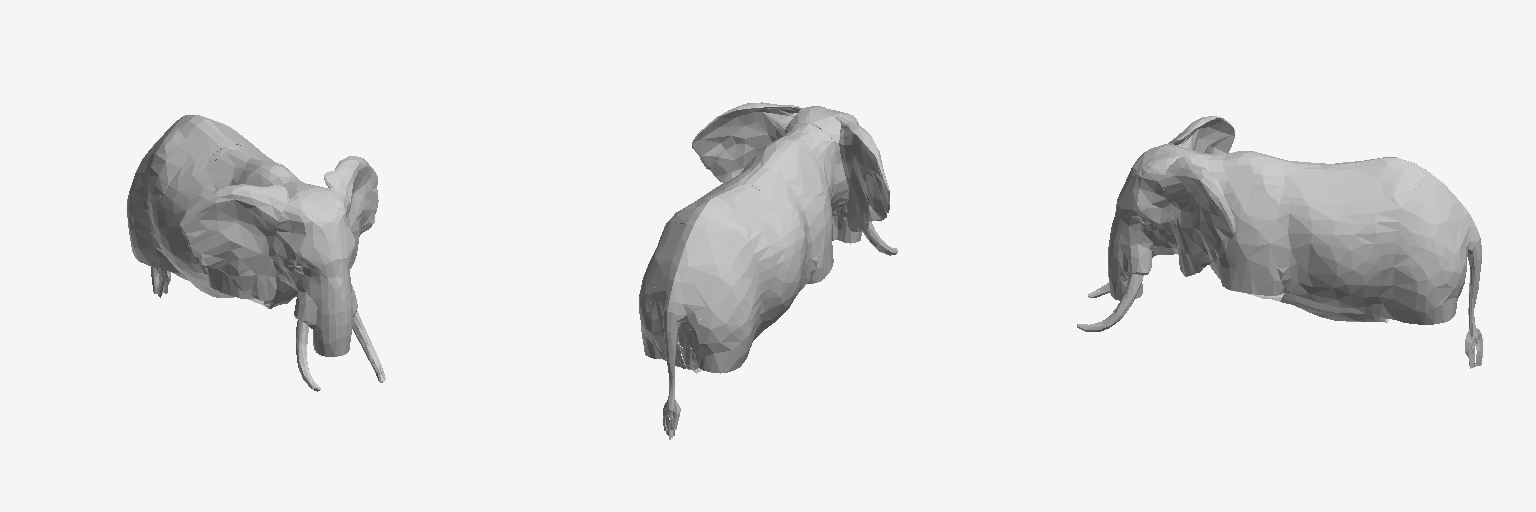
Rendered from elefante_cuerpo.obj.
3 renders of one model, left to right at view 1: azimuth 30°, elevation 25°; view 2: azimuth 150°, elevation 25°; view 3: azimuth 270°, elevation 25°, orthographic.
Parts seen in each view (by area): view 1: Cuerpo_elefante; view 2: Cuerpo_elefante; view 3: Cuerpo_elefante.
Part boxes in pixels (left/top/right/bottom): Cuerpo_elefante: left=127, top=115, right=385, bottom=391; Cuerpo_elefante: left=639, top=102, right=897, bottom=439; Cuerpo_elefante: left=1077, top=116, right=1482, bottom=368.
Size of the model in its own units: 2.3 by 2.48 by 4.1.